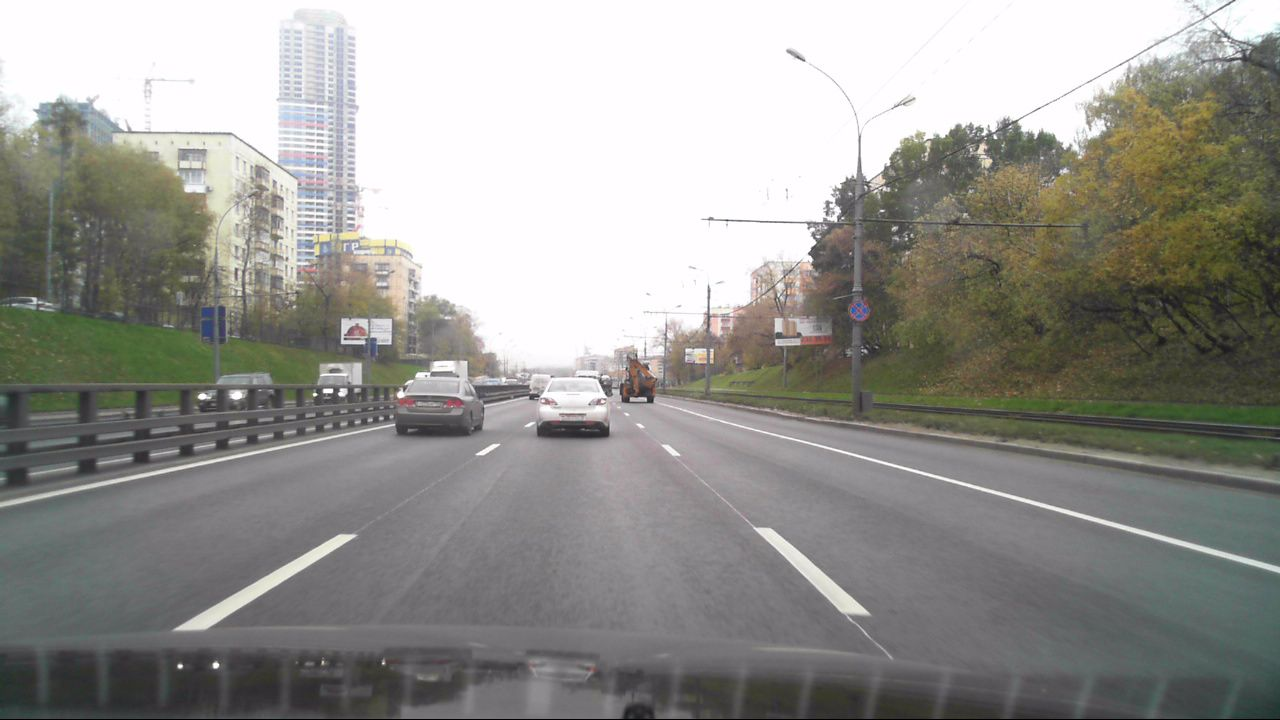No Parking: (848, 300, 869, 321)
